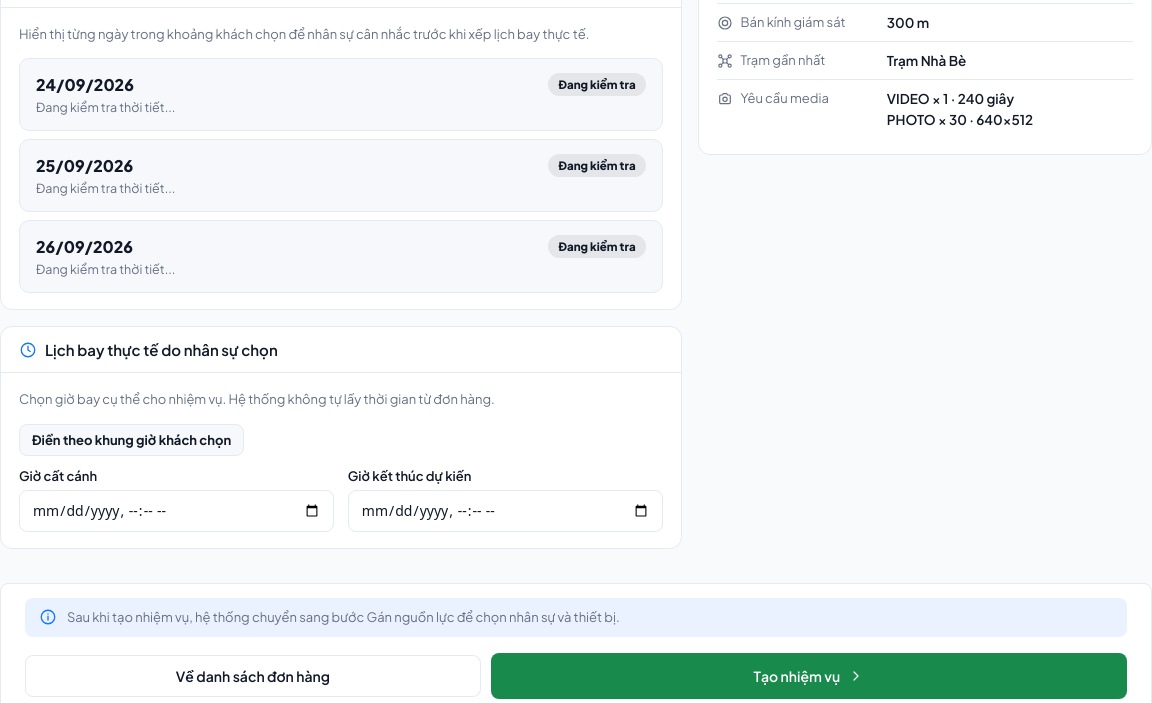
Test: CreateMissionPage › blocks submit when the finish time is before takeoff time
(page scrolled)
Type "2026-09-11T18:58" into the field labelled "Giờ cất cánh" at (176, 511), box [19,490,334,532]
(page scrolled)
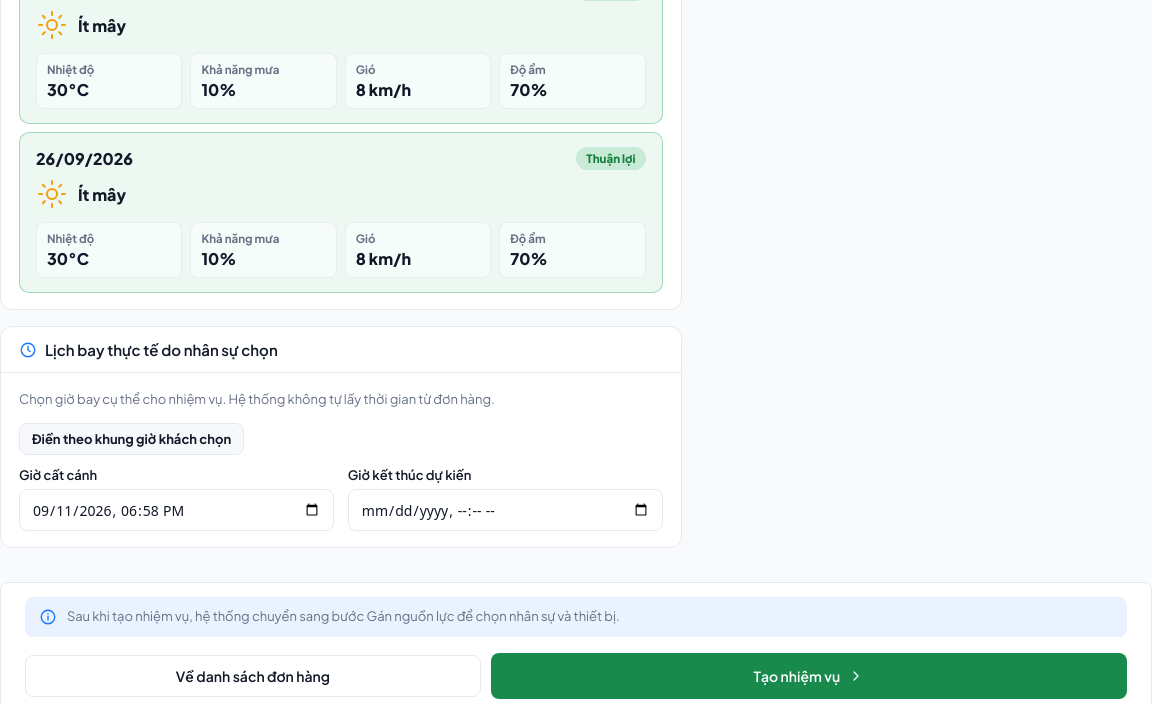
Type "2026-09-10T15:58" into the field labelled "Giờ kết thúc dự kiến" at (505, 510), box [348,489,663,531]
(page scrolled)
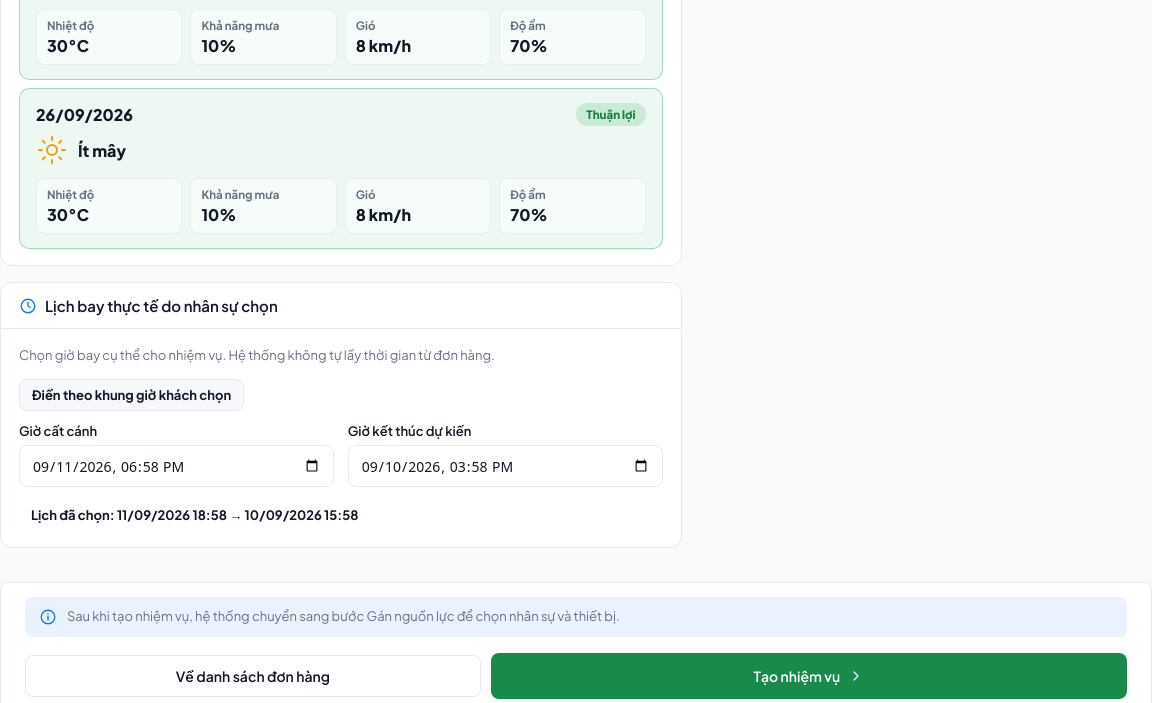
Click the button "Tạo nhiệm vụ" at (809, 676), box [491,653,1127,699]
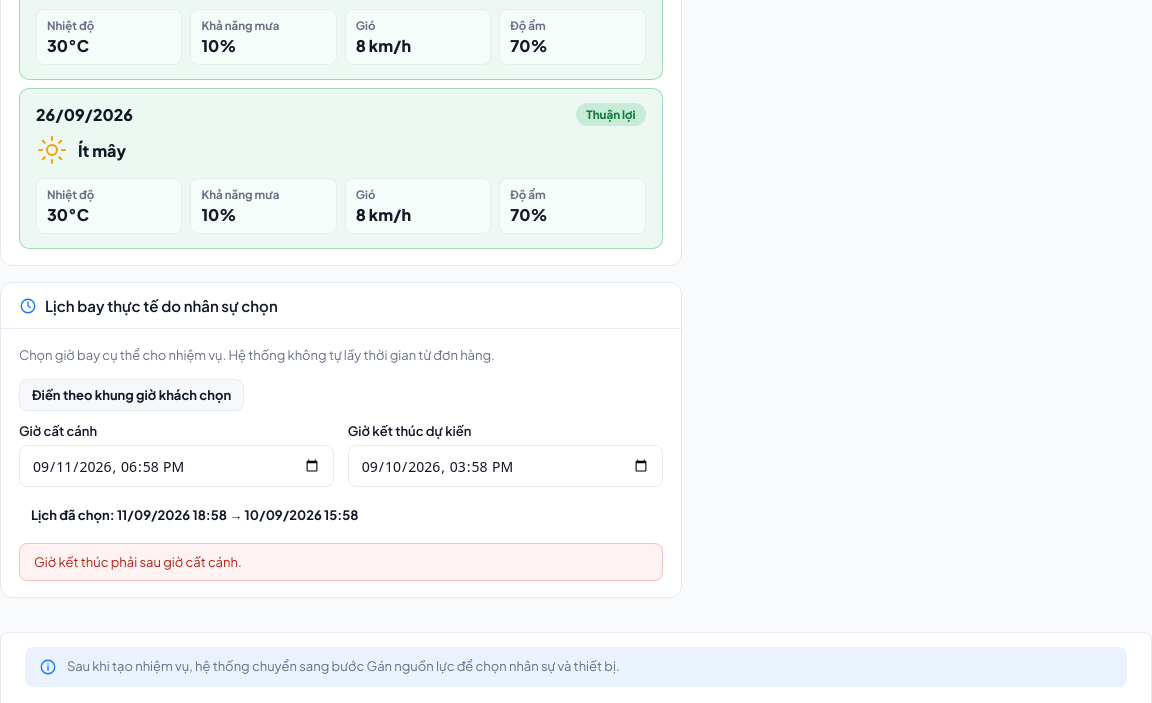
Expected: the text "Giờ kết thúc phải sau giờ cất cánh." is shown, [19,543,663,581]
